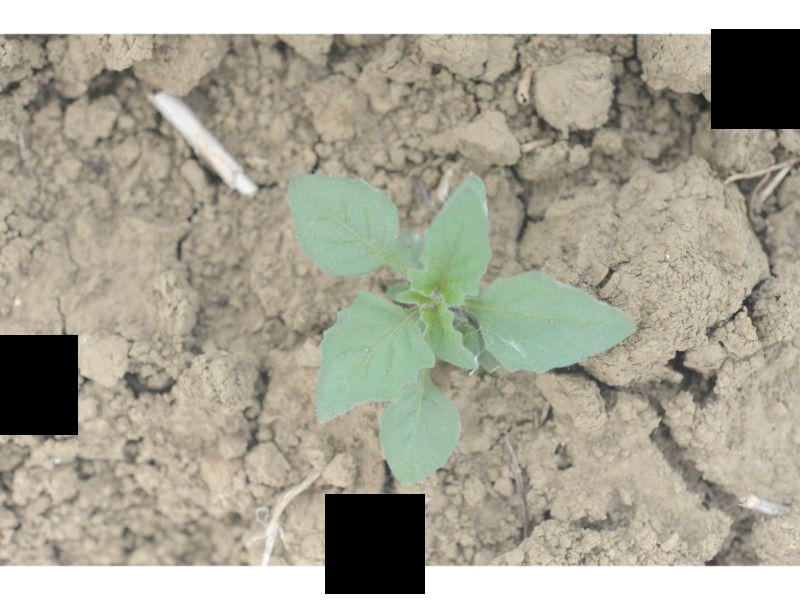nightshade: (289, 168, 634, 488)
